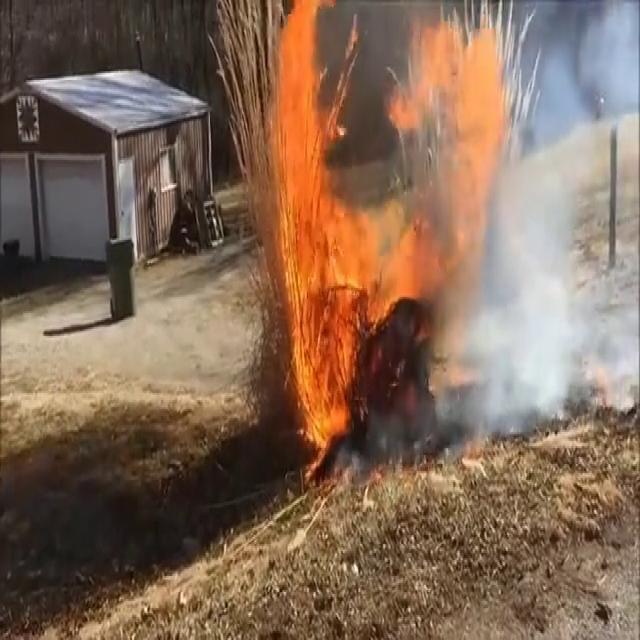Fire: (261, 2, 510, 478)
Smoke: (400, 2, 640, 462)
